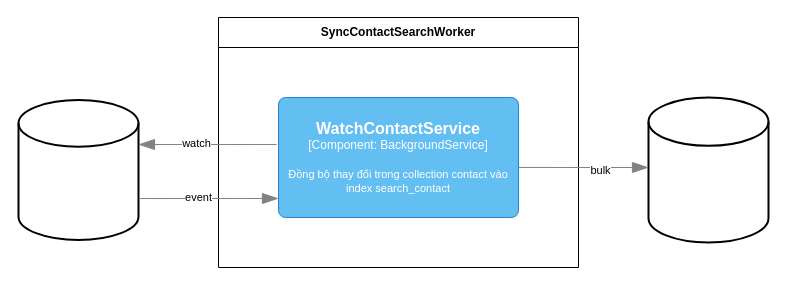
The diagram is 786 pixels wide and 285 high, and some of its shapes have lost their labels. The shapes that lost their labels are listed below. From the top down, each one's centre as x and y in pixels, then its label:
pixel 78 169: aim_contact.contact [MongoDB]
pixel 708 169: aim_search_contact [Elasticsearch]
